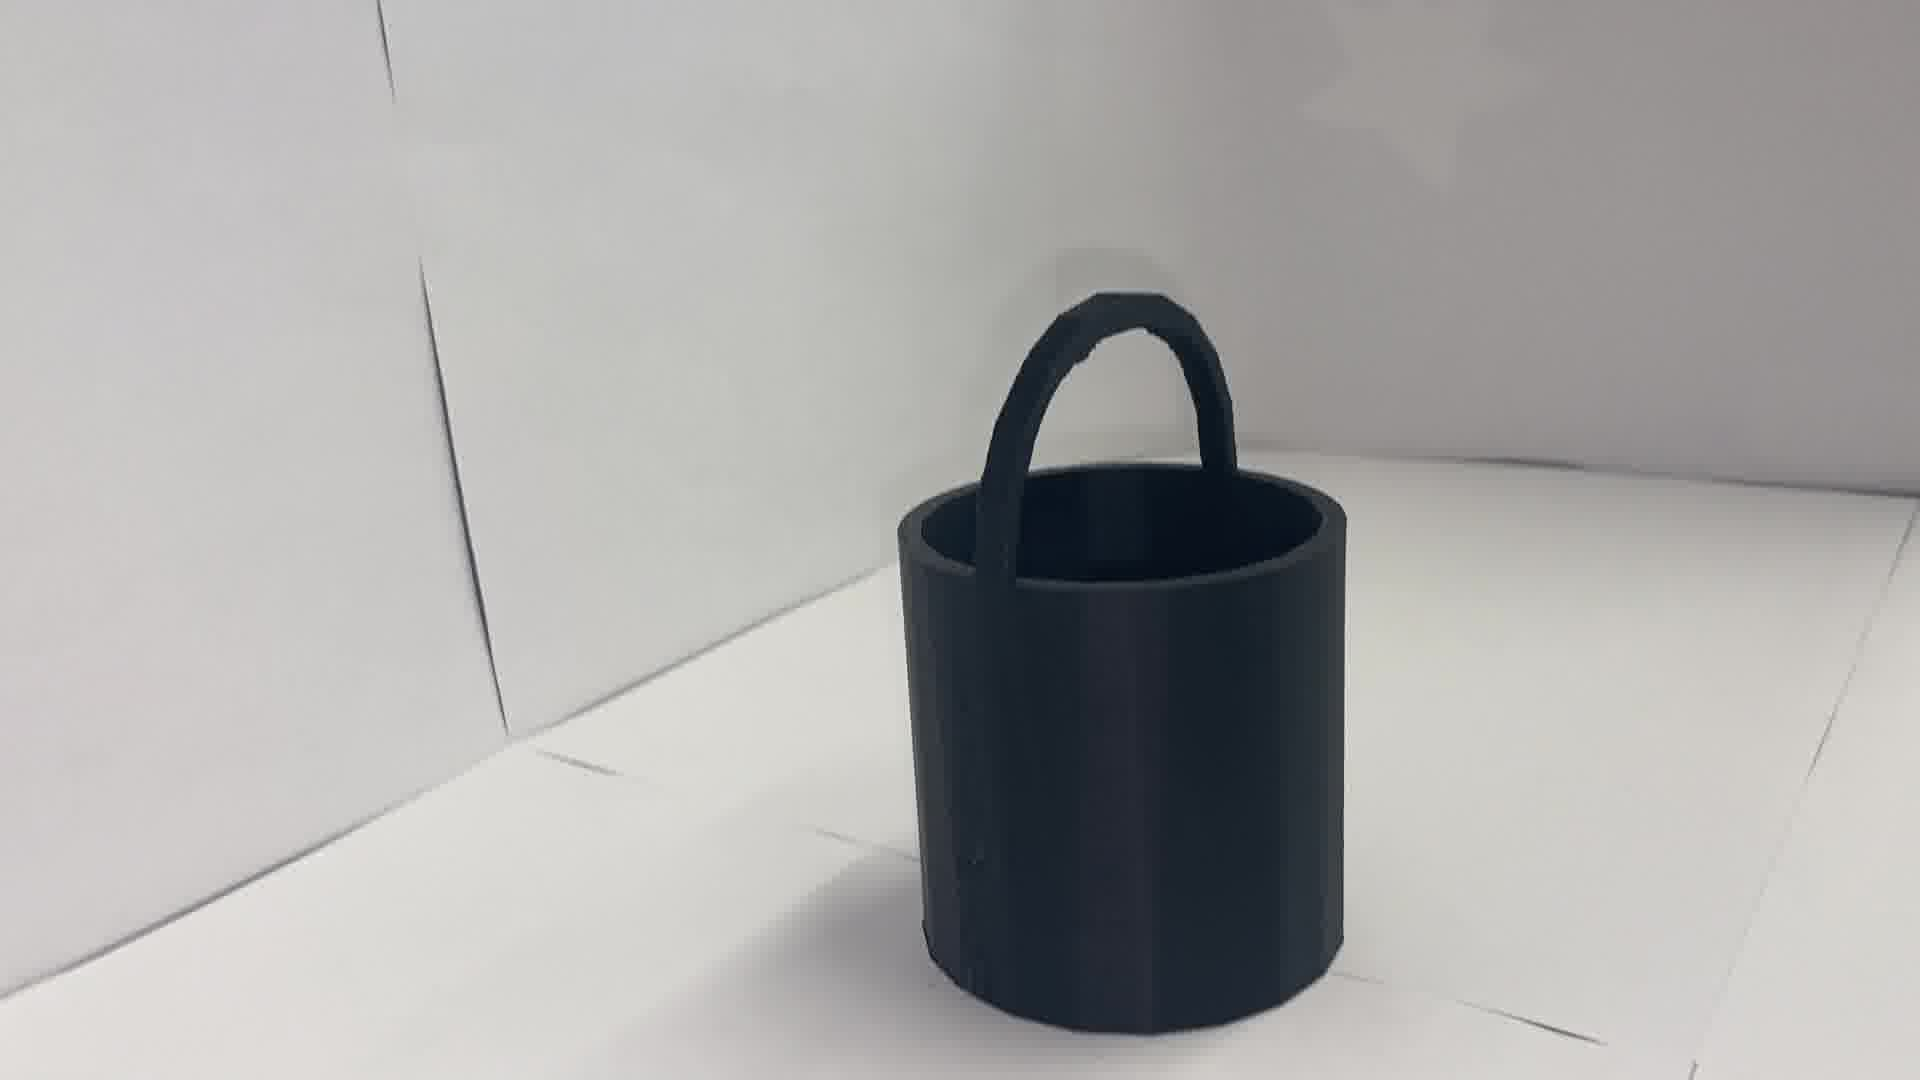bag: (889, 294, 1361, 1033)
